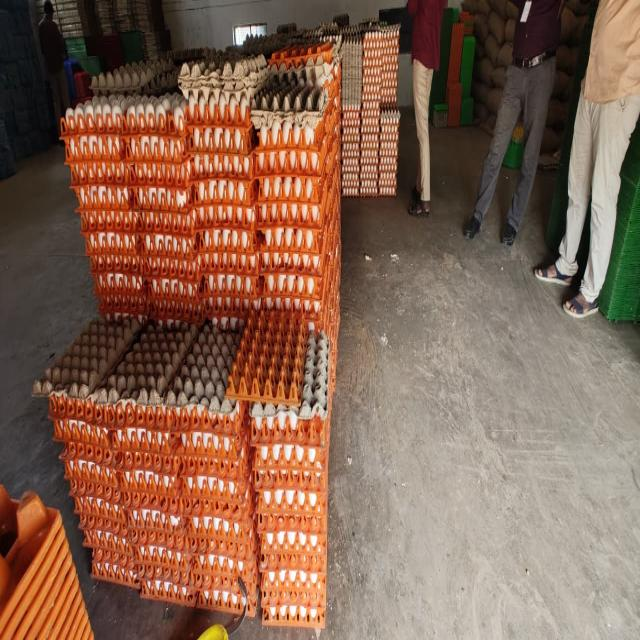egg_tray: (96, 324, 196, 603), (63, 96, 188, 316), (39, 319, 138, 584), (167, 324, 258, 611), (252, 335, 330, 625), (68, 96, 194, 257), (96, 324, 197, 506), (124, 95, 200, 319), (254, 393, 330, 597), (162, 324, 248, 503), (188, 91, 256, 297), (54, 419, 137, 583), (256, 109, 338, 273), (180, 434, 258, 598), (163, 324, 246, 478), (70, 158, 146, 317), (168, 355, 248, 504), (195, 128, 257, 313), (260, 180, 340, 320), (60, 442, 138, 584), (258, 163, 339, 299), (61, 443, 138, 585), (260, 176, 340, 312), (61, 444, 138, 585), (32, 319, 140, 418), (97, 322, 197, 423), (252, 332, 334, 445), (254, 445, 328, 570), (194, 177, 260, 317), (184, 493, 259, 615), (182, 489, 258, 609), (264, 222, 340, 338), (181, 485, 258, 599), (114, 424, 184, 548), (254, 100, 339, 200), (62, 95, 185, 163), (166, 324, 242, 434), (257, 131, 339, 230), (123, 95, 190, 211), (258, 514, 326, 627), (180, 410, 252, 516), (256, 141, 340, 231), (227, 312, 308, 405), (256, 141, 339, 230), (196, 203, 260, 318), (254, 113, 338, 200), (254, 115, 338, 202), (70, 476, 138, 583), (188, 92, 255, 200), (129, 497, 196, 604), (182, 494, 258, 587), (252, 67, 340, 146), (252, 42, 341, 120), (190, 125, 256, 229), (263, 245, 340, 333), (80, 209, 145, 313), (190, 123, 256, 225), (180, 423, 252, 516), (258, 489, 326, 587), (254, 119, 337, 198), (141, 209, 200, 320), (128, 505, 194, 603), (122, 93, 190, 188), (194, 176, 256, 276), (130, 507, 194, 603), (74, 495, 139, 587), (258, 509, 325, 597), (198, 225, 261, 318), (116, 424, 182, 511), (61, 98, 125, 185), (191, 533, 259, 614), (190, 539, 259, 616), (78, 185, 139, 272), (251, 310, 306, 405), (118, 424, 180, 507), (127, 505, 191, 585), (60, 419, 119, 503), (126, 133, 190, 208), (88, 229, 144, 313), (260, 539, 326, 609), (78, 185, 139, 257), (257, 488, 326, 551), (178, 52, 268, 99), (254, 444, 328, 499), (253, 445, 326, 500), (50, 393, 112, 457), (258, 512, 326, 570), (70, 477, 128, 545), (252, 68, 329, 118), (261, 569, 325, 628), (143, 256, 201, 321), (66, 134, 128, 194), (127, 132, 191, 189), (194, 177, 256, 233), (314, 262, 340, 394), (126, 505, 188, 559), (90, 59, 178, 96), (316, 186, 341, 299), (306, 257, 340, 340), (188, 88, 250, 133), (260, 530, 326, 572), (92, 272, 148, 320), (96, 273, 148, 321), (90, 538, 140, 587), (148, 278, 202, 322), (274, 21, 340, 57), (236, 29, 315, 58), (196, 580, 258, 616), (188, 123, 254, 155), (192, 152, 254, 183), (194, 177, 256, 207), (300, 26, 342, 70), (202, 290, 262, 320), (270, 40, 334, 67), (129, 0, 158, 59), (342, 103, 360, 195), (360, 102, 379, 189), (73, 183, 134, 210), (140, 577, 196, 606), (314, 52, 342, 110), (380, 110, 398, 194), (322, 156, 341, 233), (381, 25, 399, 103), (262, 605, 325, 627), (362, 31, 382, 100), (280, 23, 339, 46), (342, 36, 362, 103), (178, 59, 212, 98), (88, 253, 146, 274), (80, 518, 126, 543), (56, 0, 87, 36), (325, 66, 342, 130), (324, 48, 342, 108), (136, 19, 162, 58), (164, 47, 210, 69), (298, 21, 340, 44), (341, 108, 360, 152), (361, 145, 378, 194), (307, 338, 328, 377), (380, 111, 399, 154), (56, 0, 86, 27), (382, 42, 398, 92), (341, 134, 360, 175), (341, 154, 360, 194), (340, 19, 376, 40), (380, 108, 400, 143), (363, 27, 386, 57), (445, 82, 461, 125), (381, 108, 399, 146), (380, 120, 398, 158), (361, 118, 380, 154), (343, 68, 362, 103), (360, 102, 380, 135), (340, 143, 360, 176), (363, 63, 380, 101), (112, 0, 134, 29), (360, 152, 379, 185), (96, 3, 115, 36), (343, 70, 361, 102), (266, 488, 302, 504), (361, 101, 380, 131), (380, 25, 400, 53), (380, 69, 396, 103), (220, 236, 254, 251), (342, 103, 360, 130), (378, 167, 396, 194), (360, 169, 378, 195), (380, 24, 400, 47), (378, 173, 396, 196), (378, 174, 396, 196), (342, 172, 359, 195), (332, 12, 349, 35), (381, 80, 397, 103), (433, 104, 448, 128), (157, 279, 179, 295), (380, 155, 396, 176), (289, 593, 320, 603), (90, 424, 109, 439), (303, 492, 326, 504), (276, 22, 297, 35), (154, 236, 176, 247), (308, 315, 324, 330), (207, 600, 233, 609), (216, 518, 237, 529), (512, 124, 524, 142), (200, 238, 218, 250), (291, 276, 310, 287), (174, 452, 183, 474), (202, 594, 216, 607), (184, 481, 203, 490), (76, 459, 89, 472), (183, 283, 193, 299), (270, 595, 284, 605), (180, 417, 190, 430), (245, 355, 253, 369), (363, 97, 379, 104), (313, 88, 328, 95), (211, 415, 224, 423), (224, 276, 241, 282), (317, 585, 325, 597), (202, 133, 210, 145), (214, 132, 220, 147), (96, 283, 108, 290), (336, 198, 340, 219), (256, 147, 262, 161), (54, 424, 64, 432), (184, 503, 194, 511), (125, 545, 132, 556), (67, 134, 73, 146), (332, 350, 336, 366), (295, 278, 304, 285), (76, 461, 91, 465), (92, 261, 106, 265), (330, 377, 334, 391), (206, 478, 217, 483), (266, 578, 272, 587), (305, 306, 318, 310), (194, 139, 200, 147), (300, 597, 308, 603), (188, 432, 196, 437), (243, 368, 247, 377), (122, 256, 128, 262), (252, 417, 256, 426), (38, 2, 43, 9), (225, 334, 230, 341), (282, 84, 287, 90), (66, 139, 72, 144), (307, 246, 313, 251), (298, 245, 304, 250), (306, 245, 312, 250), (138, 2, 148, 5), (102, 536, 109, 540), (205, 494, 219, 496), (199, 192, 204, 197), (174, 310, 178, 316), (92, 142, 96, 148), (222, 152, 228, 156), (240, 413, 244, 419), (205, 141, 208, 148), (226, 417, 233, 420), (200, 410, 203, 417), (238, 283, 242, 288), (230, 488, 234, 493), (178, 310, 182, 315), (236, 324, 241, 328), (196, 167, 200, 172), (66, 472, 70, 477), (202, 345, 206, 350), (263, 599, 266, 605), (294, 586, 300, 589), (234, 338, 237, 344), (320, 560, 326, 563), (230, 194, 234, 198), (156, 293, 160, 297), (127, 221, 131, 225), (196, 356, 200, 360), (90, 461, 95, 464), (272, 602, 277, 605), (97, 543, 104, 545), (290, 494, 294, 497), (252, 589, 254, 595), (254, 589, 256, 595), (249, 291, 253, 294), (264, 457, 267, 461), (120, 268, 131, 269), (238, 357, 240, 362), (155, 410, 160, 412), (220, 288, 230, 289), (190, 411, 192, 416), (196, 107, 198, 112), (280, 545, 282, 550), (362, 154, 364, 159), (155, 287, 158, 290), (286, 282, 289, 285), (117, 282, 121, 284), (299, 245, 303, 247), (286, 194, 290, 196), (34, 385, 36, 389), (250, 158, 252, 162), (134, 213, 136, 217), (142, 235, 144, 239), (343, 89, 344, 96), (308, 95, 310, 98), (151, 441, 154, 443), (106, 544, 108, 547), (180, 412, 183, 414), (104, 268, 110, 269), (234, 155, 240, 156), (116, 283, 118, 286), (183, 442, 186, 444), (254, 536, 256, 539), (133, 261, 136, 263), (202, 597, 208, 598), (311, 167, 314, 169), (156, 410, 159, 412), (93, 427, 98, 428), (238, 353, 240, 355), (240, 304, 242, 306), (288, 246, 292, 247), (136, 471, 140, 472), (36, 383, 38, 385), (116, 212, 118, 214), (334, 44, 336, 46), (217, 605, 219, 607), (128, 261, 130, 263), (234, 236, 236, 238), (263, 600, 265, 602), (364, 156, 366, 158), (156, 420, 158, 422), (381, 153, 385, 154), (115, 220, 118, 221), (311, 266, 313, 267), (229, 285, 231, 286), (304, 549, 306, 550), (146, 229, 148, 230), (196, 106, 197, 108), (248, 220, 250, 221), (204, 604, 206, 605), (131, 261, 132, 263), (195, 348, 197, 349), (249, 529, 251, 530), (287, 276, 289, 277), (289, 549, 291, 550), (309, 540, 311, 541), (305, 540, 307, 541), (325, 387, 327, 388), (274, 98, 275, 99), (285, 131, 286, 132), (216, 276, 217, 277), (211, 133, 212, 134), (318, 388, 319, 389), (147, 412, 147, 412), (288, 282, 288, 284), (68, 146, 68, 148), (285, 126, 285, 128), (294, 192, 294, 192), (294, 185, 294, 187), (296, 429, 296, 430), (203, 494, 203, 495), (130, 216, 130, 217), (72, 167, 72, 169), (210, 417, 210, 418), (70, 391, 70, 392), (207, 517, 207, 518), (180, 412, 182, 412), (196, 499, 196, 502), (311, 436, 313, 436), (308, 71, 308, 76), (298, 70, 298, 72), (331, 336, 332, 336)
